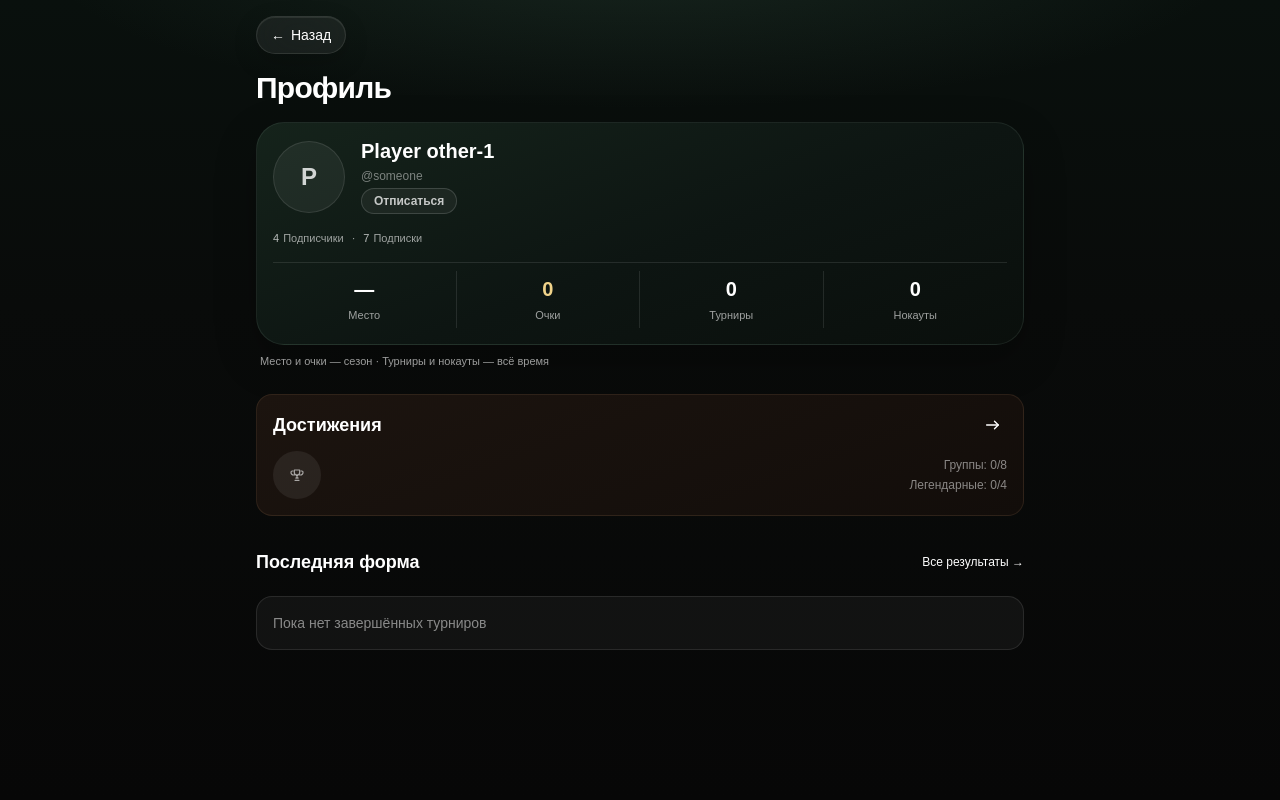
follow / unfollow › J. unfollow success: DELETE, then «Подписаться» and the server's counts
Click the button "Отписаться". click: (409, 201)
box: [361,188,457,214]
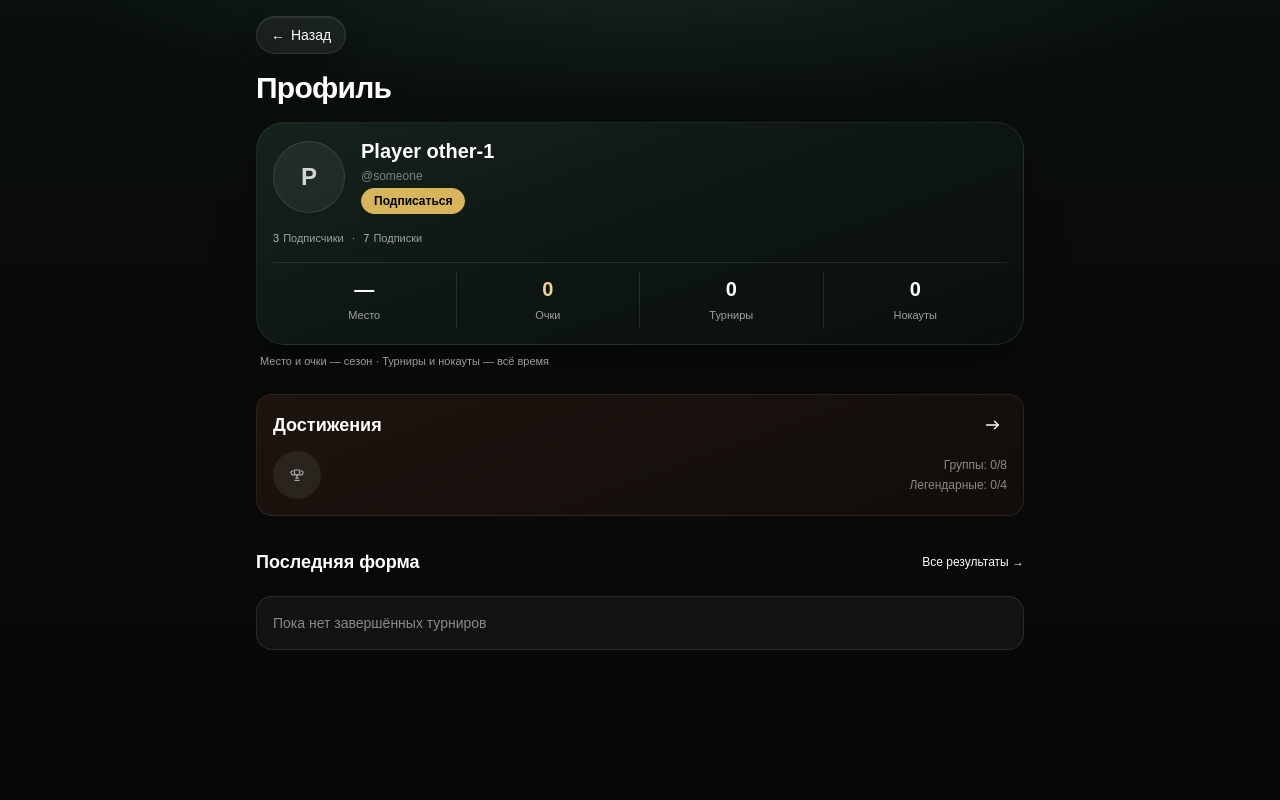
Result: the button "Подписаться" is shown at [361,188,466,214]
